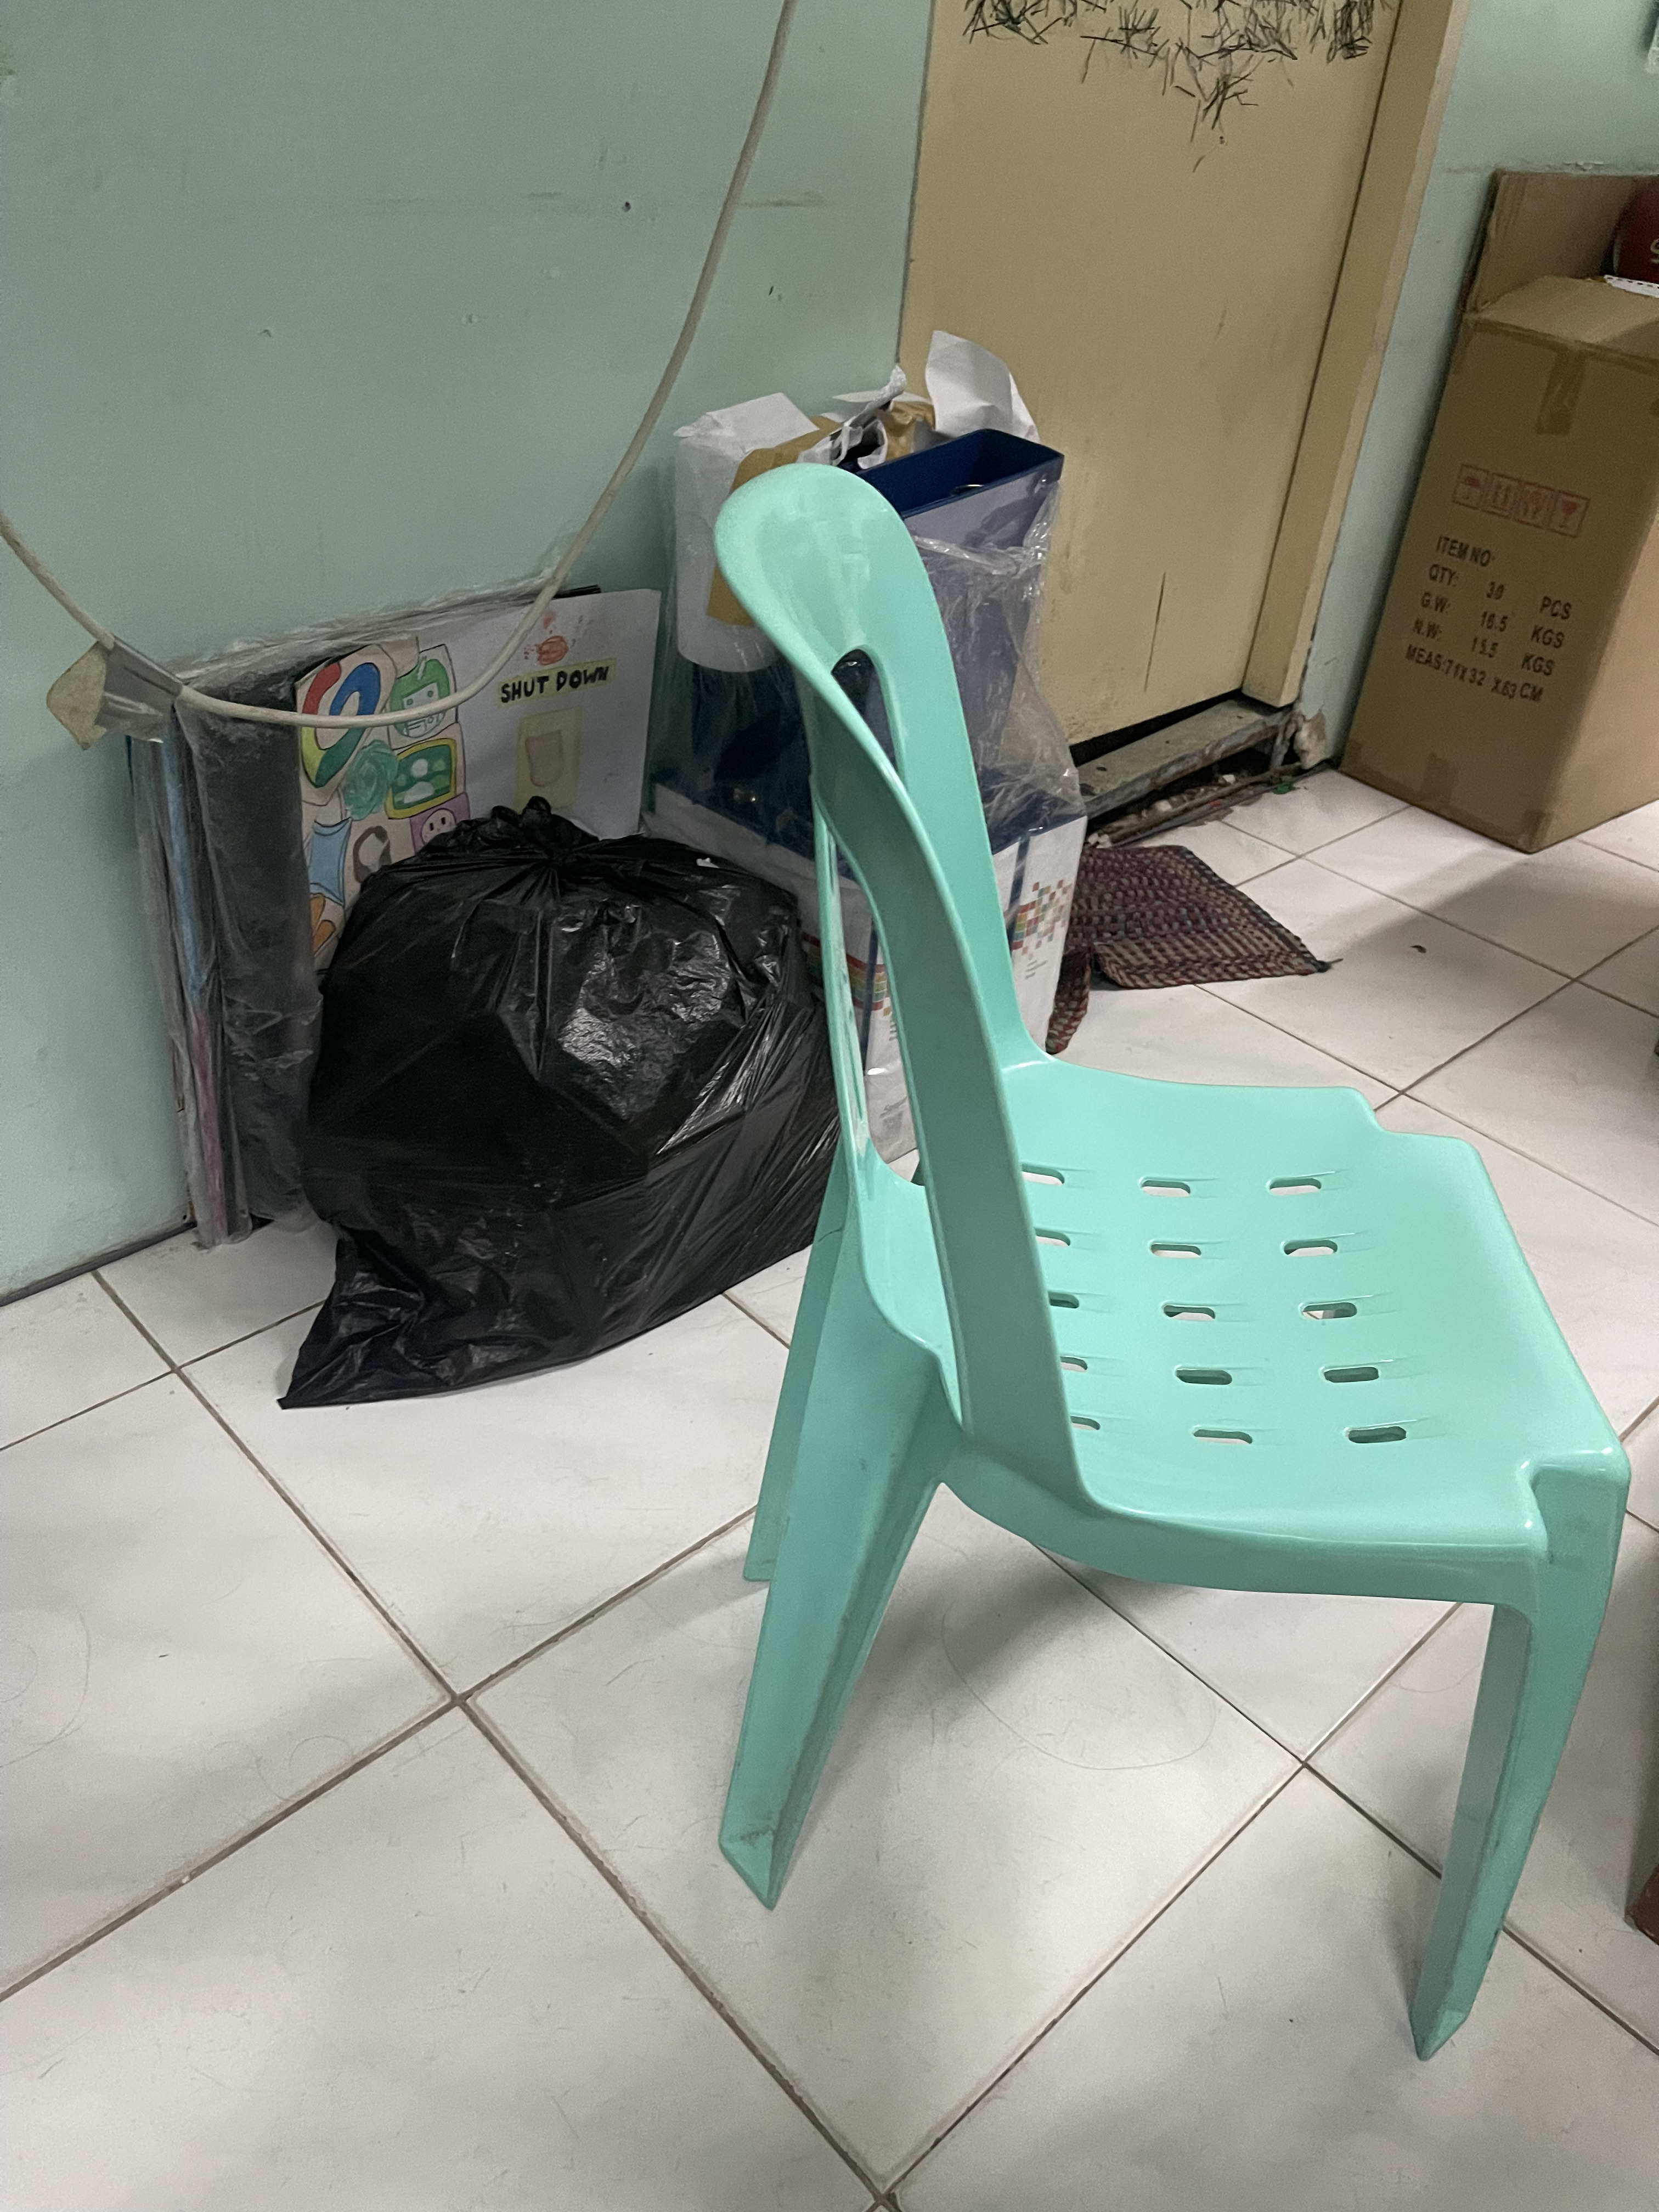chair2: (708, 460, 1635, 2085)
